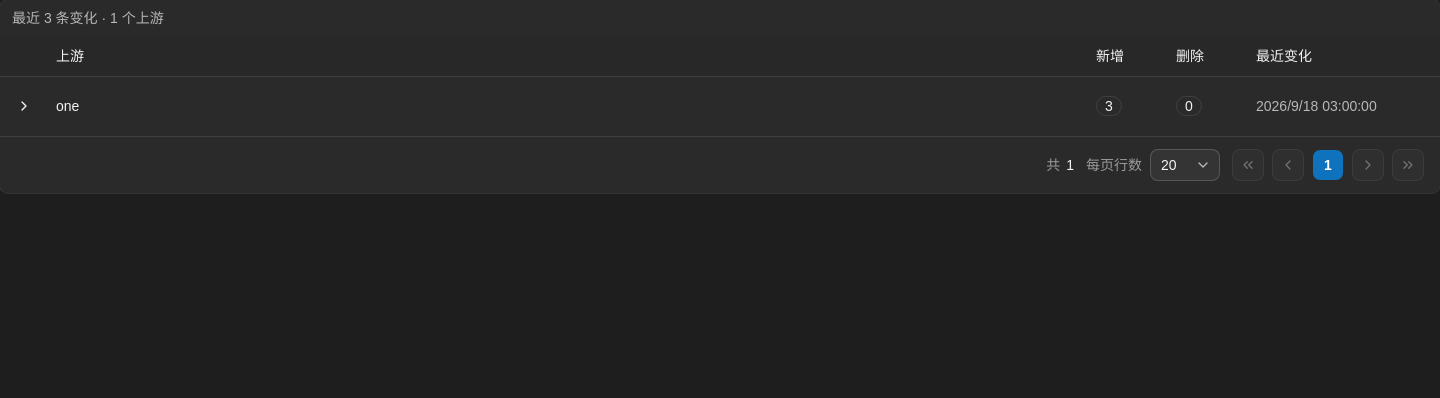
Test case: 展开新增分组变化时显示换算后倍率，保留精度、零值及缺失提示
Click the button named "展开 one 的变化明细" at (24, 106), box top-left (8, 90), bottom-right (40, 122)
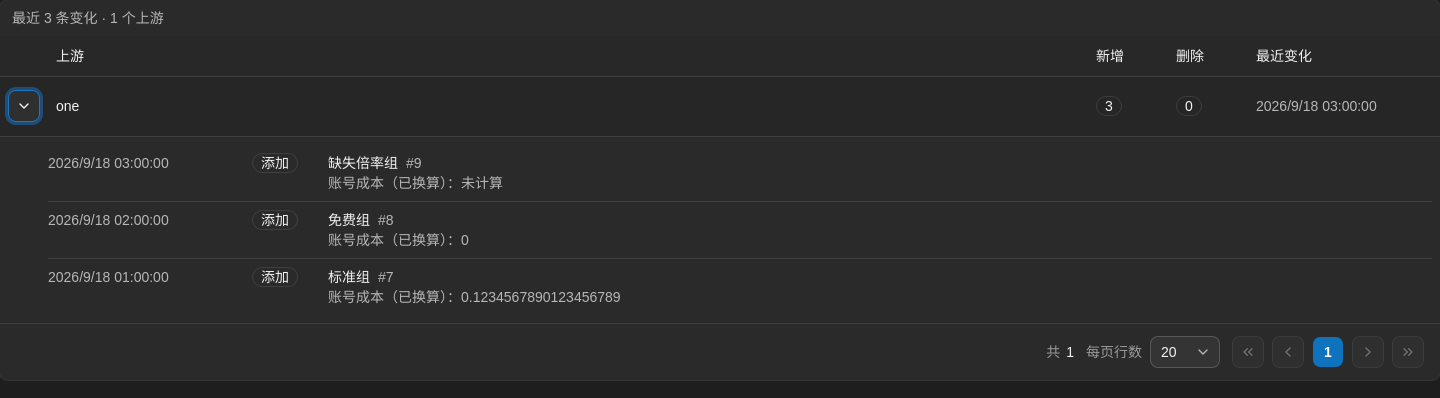
expect the list item "2026/9/18 03:00:00 添加 缺失倍率组#9 账号成本（已换算）：未计算" is shown: met, box top-left (48, 144), bottom-right (1432, 202)
expect the list item "2026/9/18 02:00:00 添加 免费组#8 账号成本（已换算）：0" is shown: met, box top-left (48, 202), bottom-right (1432, 258)
expect the list item "2026/9/18 01:00:00 添加 标准组#7 账号成本（已换算）：0.1234567890123456789" is shown: met, box top-left (48, 266), bottom-right (621, 304)
Press Tab
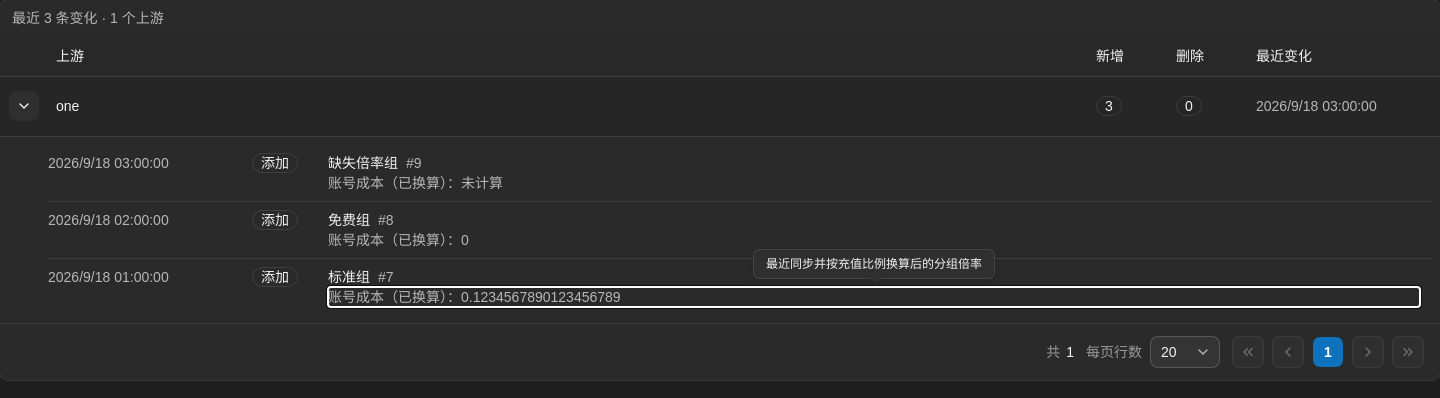
expect the tooltip reads "最近同步并按充值比例换算后的分组倍率": met, box top-left (766, 257), bottom-right (982, 271)
